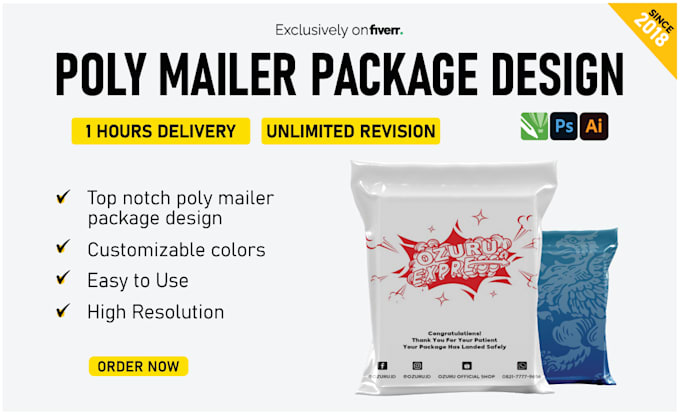塑料袋: (351, 163, 617, 395)
